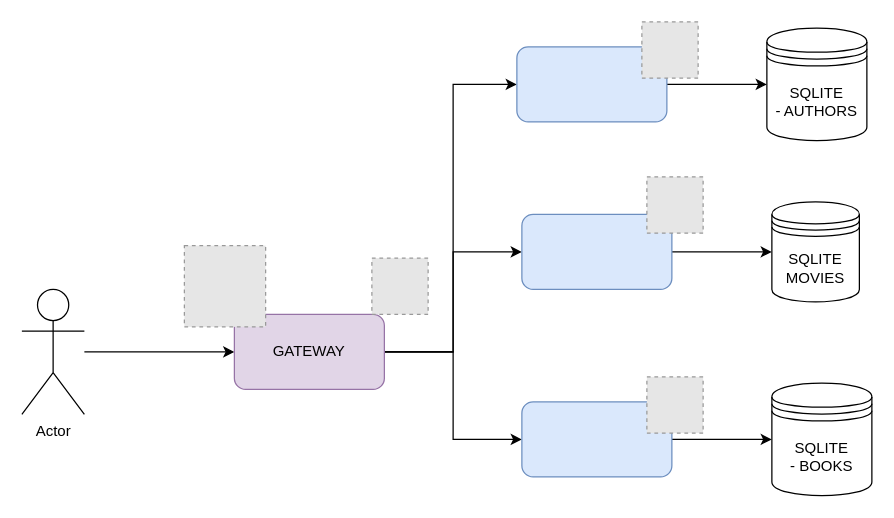
Image size: 894x518. Some labels were removed from this diagram. Grey dashed boxes stand in for pictures. Here are the shapes that lost their labels. From the top down, the centre of each, then its label:
At point (591, 84): "AUTHORS".
At point (596, 251): "MOVIES".
At point (596, 439): "BOOKS".
